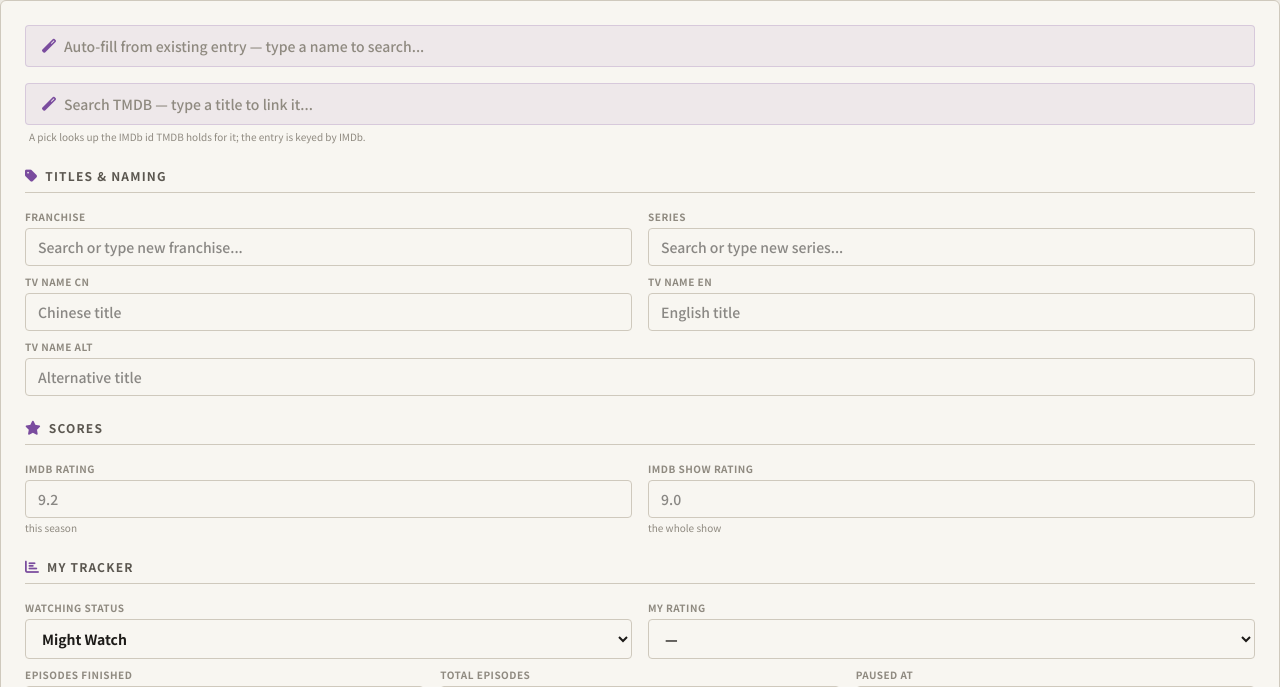
Scenario: TvShowAddTab › offers TV show and untyped franchises only
Step 1. Click the dropdown labelled "franchise" → (328, 247), box [25,228,632,266]
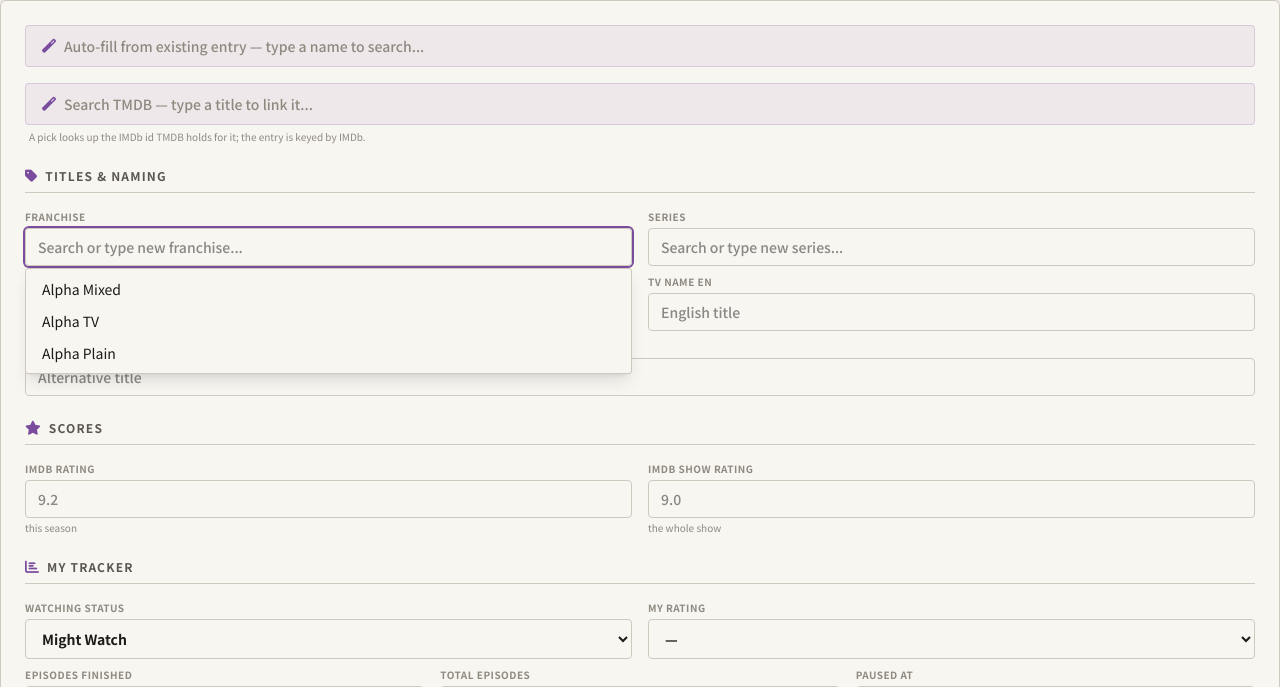
Expected: the option "Alpha TV" is shown, [42,311,99,331]
Expected: the option "Alpha Mixed" is shown, [42,279,121,299]
Expected: the option "Alpha Plain" is shown, [42,343,116,363]
